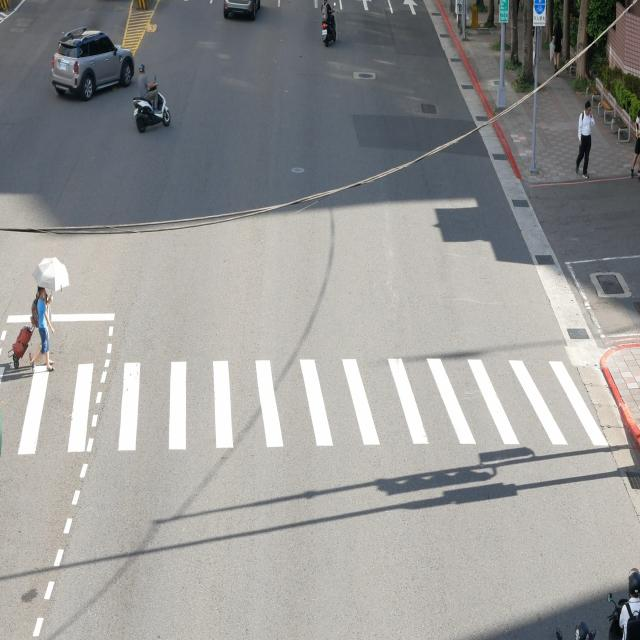pedestrian: (31, 286, 54, 370)
